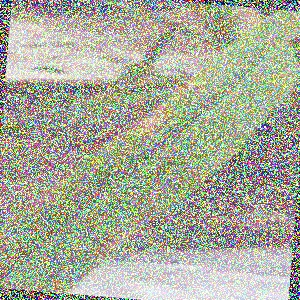Brown_Spot: (113, 91, 195, 149), (97, 208, 170, 256), (13, 179, 77, 221), (170, 70, 219, 111)
